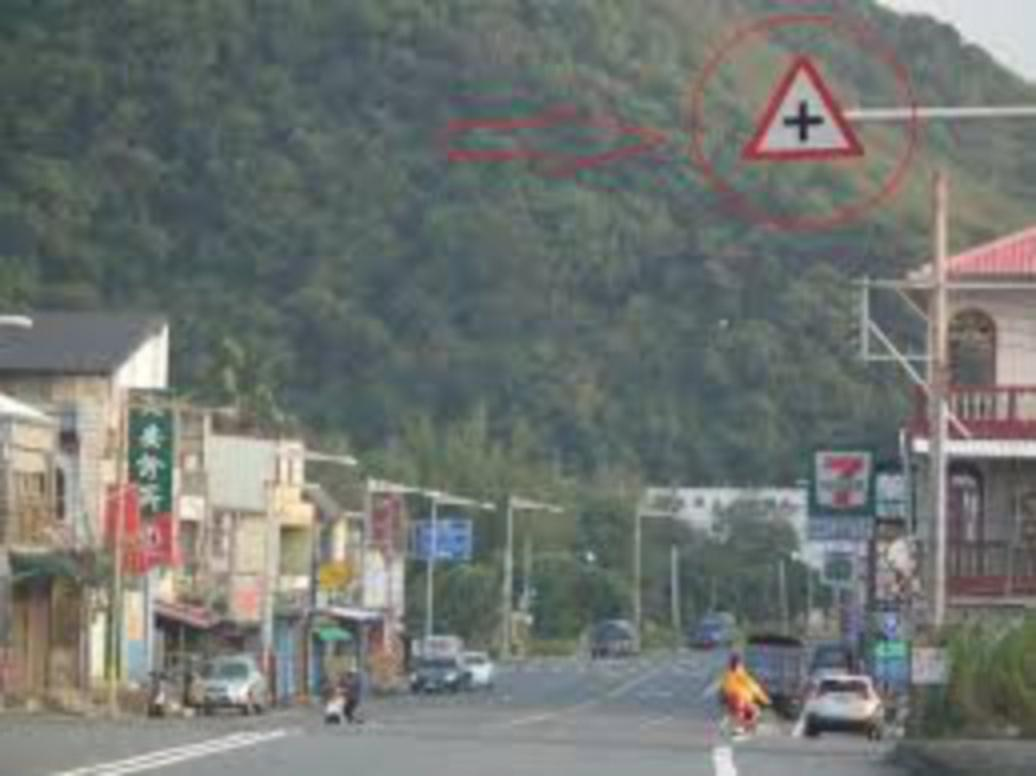fork_road: (730, 55, 876, 159)
